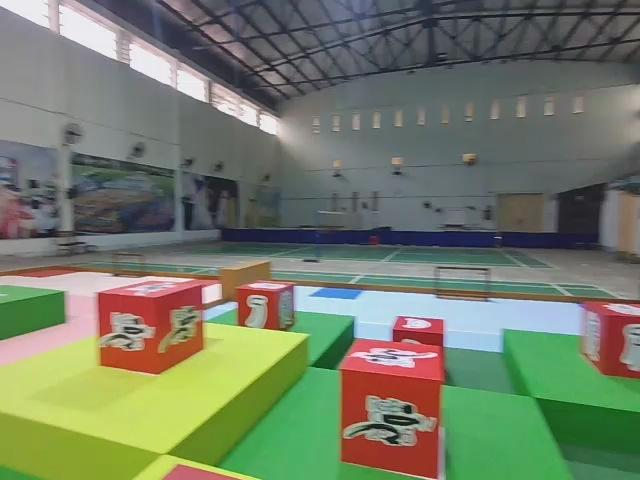R1: (342, 337, 441, 480), (99, 278, 203, 375)
R2 Fake: (580, 297, 640, 382), (236, 282, 294, 330)
